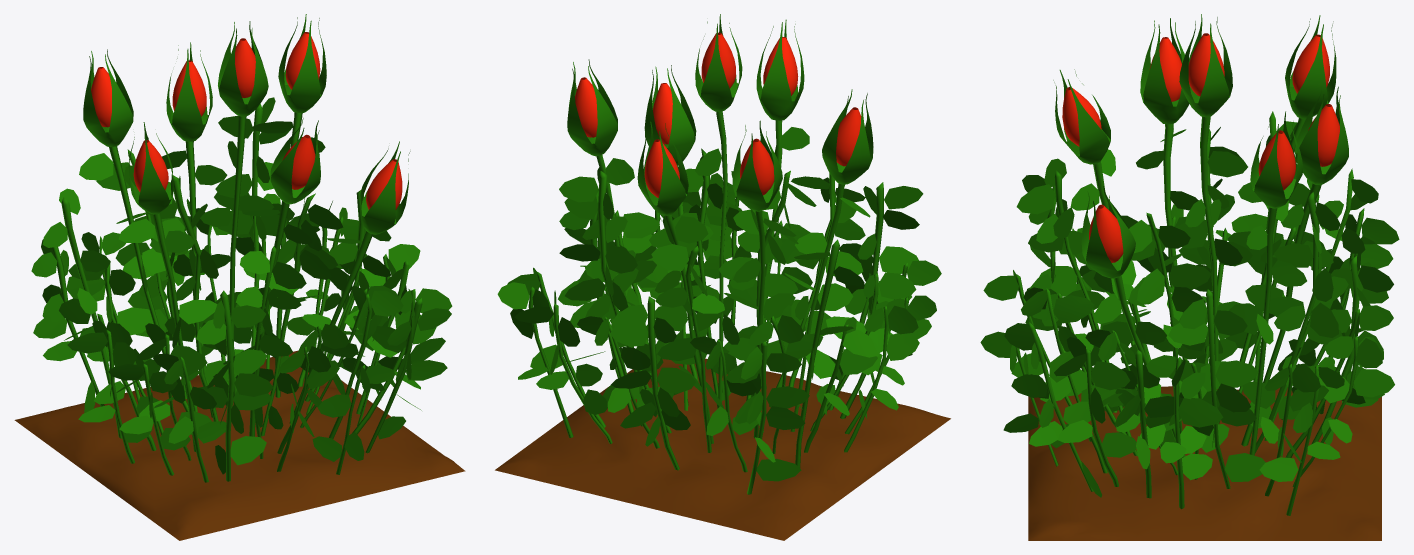
Rendered from red-rose-p4-leaf.glb.
3 views of the same model, side by side, from view 1: azimuth 30°, elevation 25°; view 2: azimuth 150°, elevation 25°; view 3: azimuth 270°, elevation 25° (orthographic). The views are drawn at different scales.
Visible parts, largest first — view 1: 4_nft_out_of_bloom; view 2: 4_nft_out_of_bloom; view 3: 4_nft_out_of_bloom.
Boxes of the visible parts, x1,y1,x2,y2 form: 4_nft_out_of_bloom: [14, 14, 465, 540]; 4_nft_out_of_bloom: [495, 14, 950, 540]; 4_nft_out_of_bloom: [980, 14, 1399, 540].
Bounding box in the file's own units: 0.862 × 0.9812 × 0.8292.
